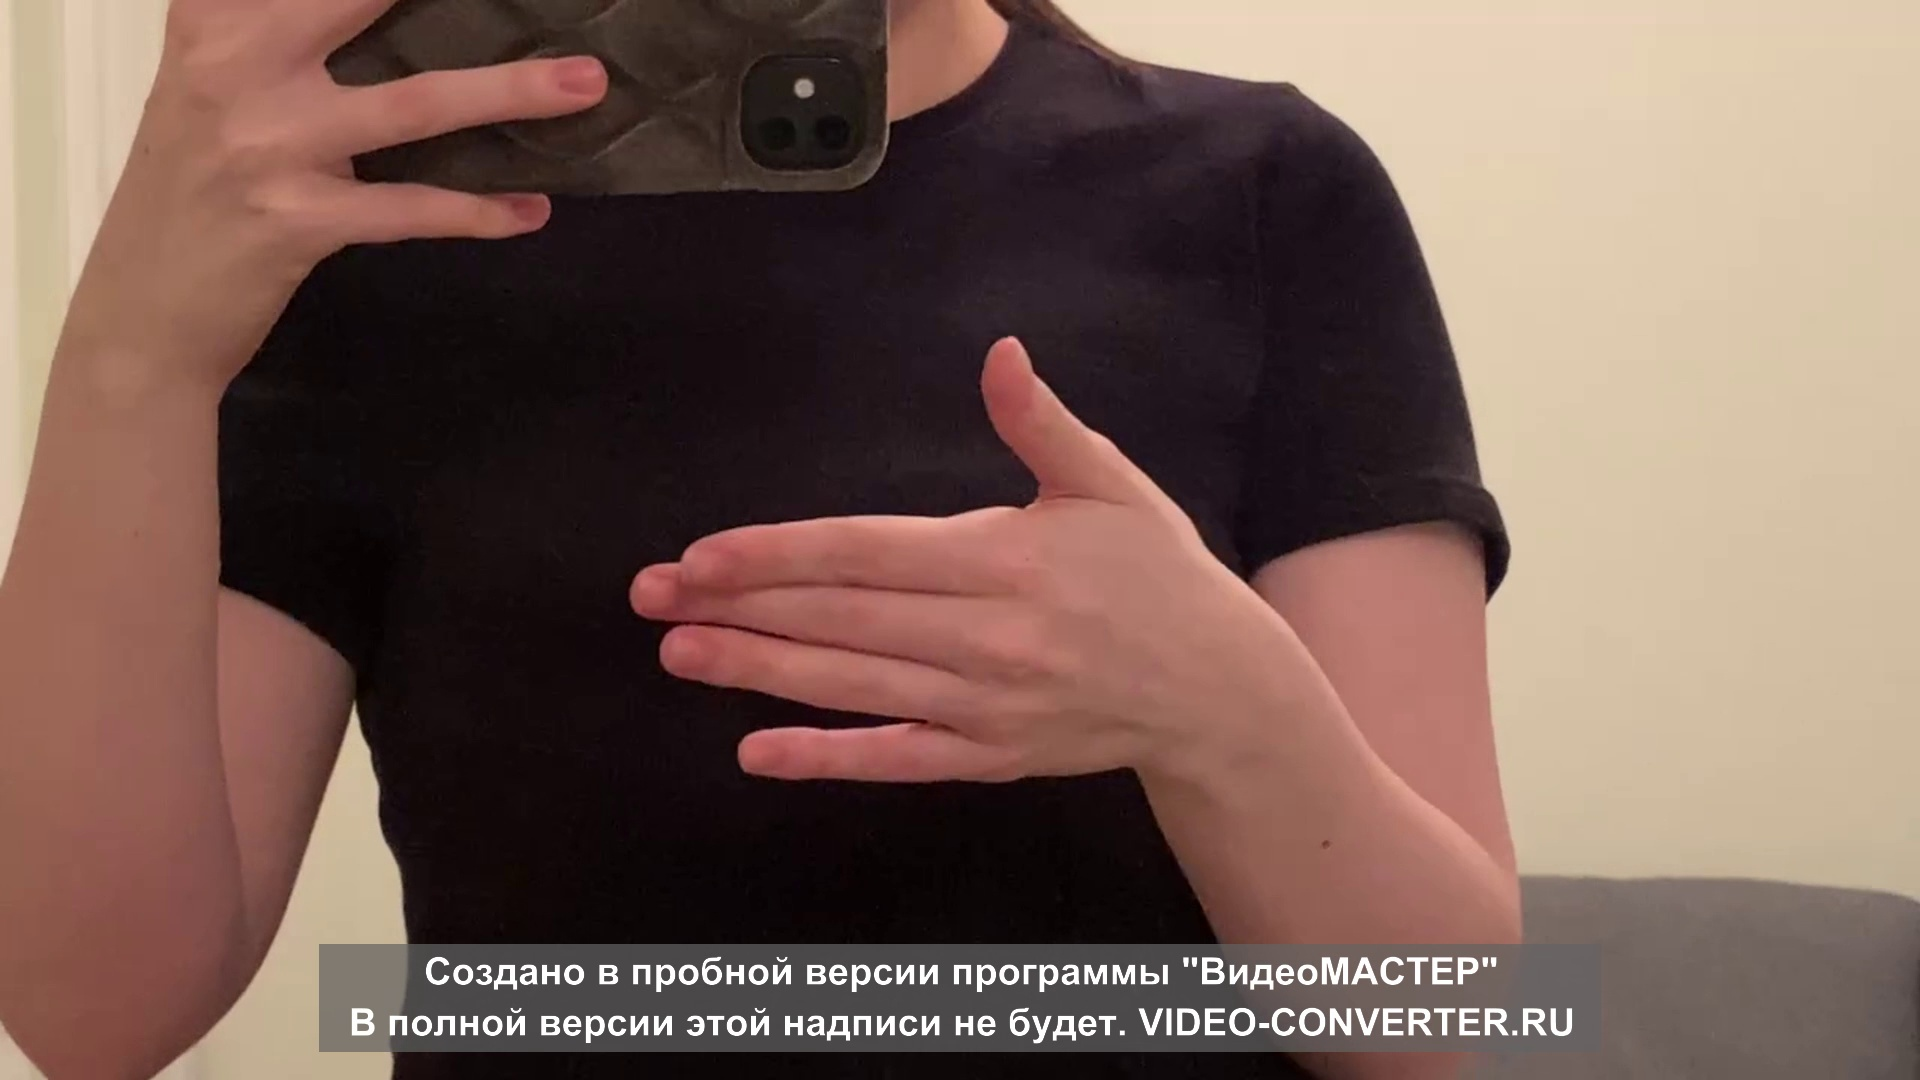Кисть: (626, 336, 1207, 779)
